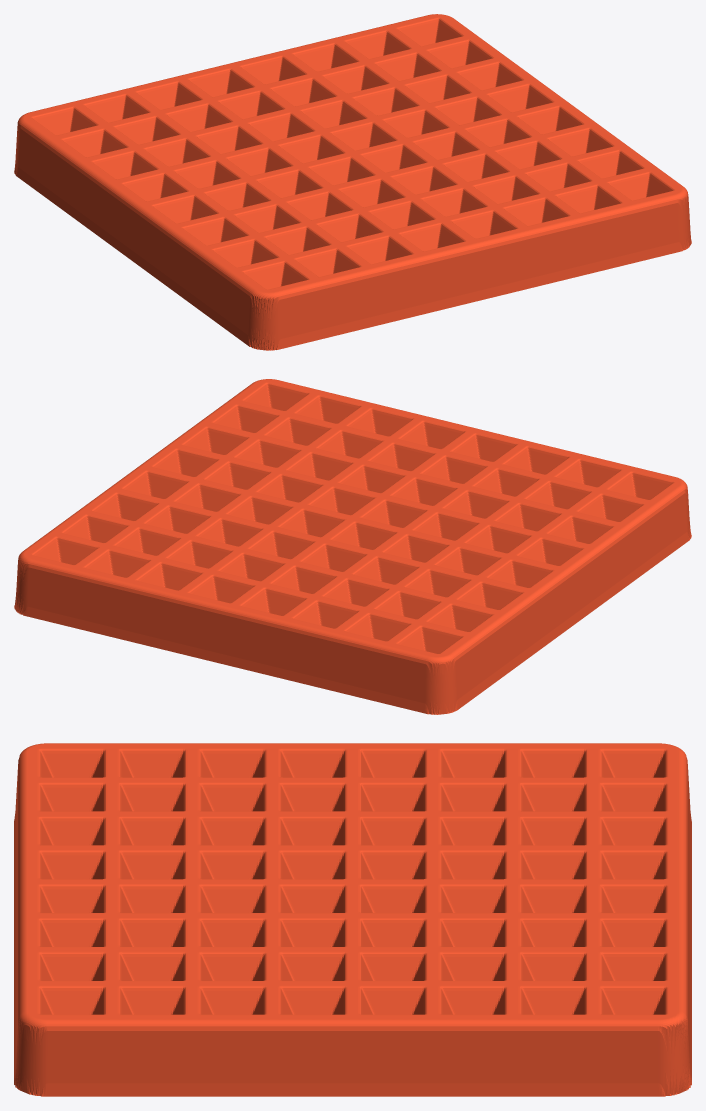
File: mold.glb
3 renders of one model, top to bottom at view 1: azimuth 30°, elevation 25°; view 2: azimuth 150°, elevation 25°; view 3: azimuth 270°, elevation 25°, orthographic. The views are drawn at different scales.
Parts seen in each view (by area): view 1: geometry_0; view 2: geometry_0; view 3: geometry_0.
Boxes of the visible parts, x1=… form: geometry_0: x1=14, y1=14, x2=691, y2=350; geometry_0: x1=14, y1=379, x2=691, y2=714; geometry_0: x1=14, y1=743, x2=691, y2=1096.
Bounding box in the file's own units: 0.1873 × 0.0218 × 0.1873.
